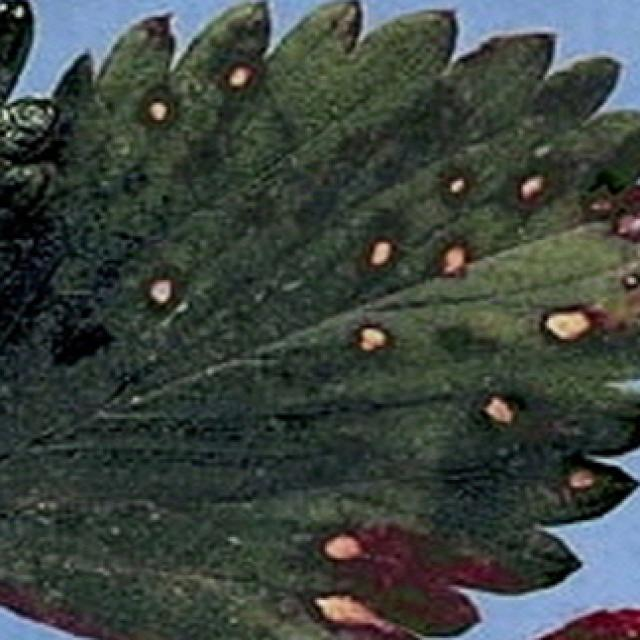Leaf Spot: (0, 0, 640, 640)
